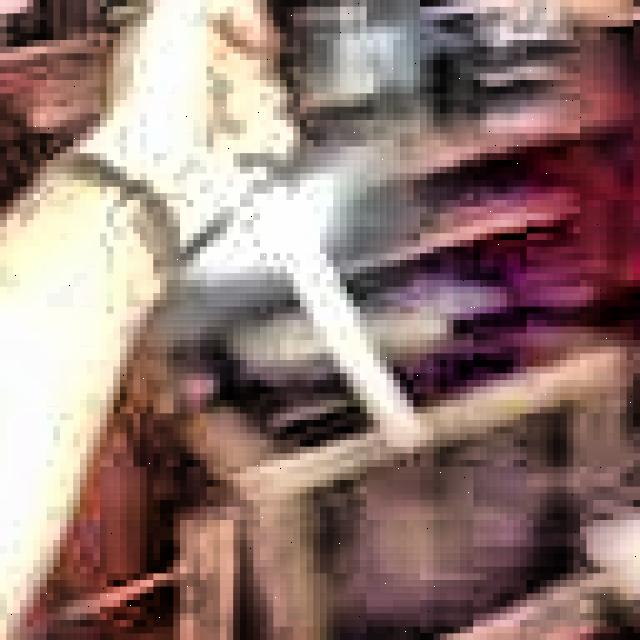knife: (210, 88, 418, 458)
